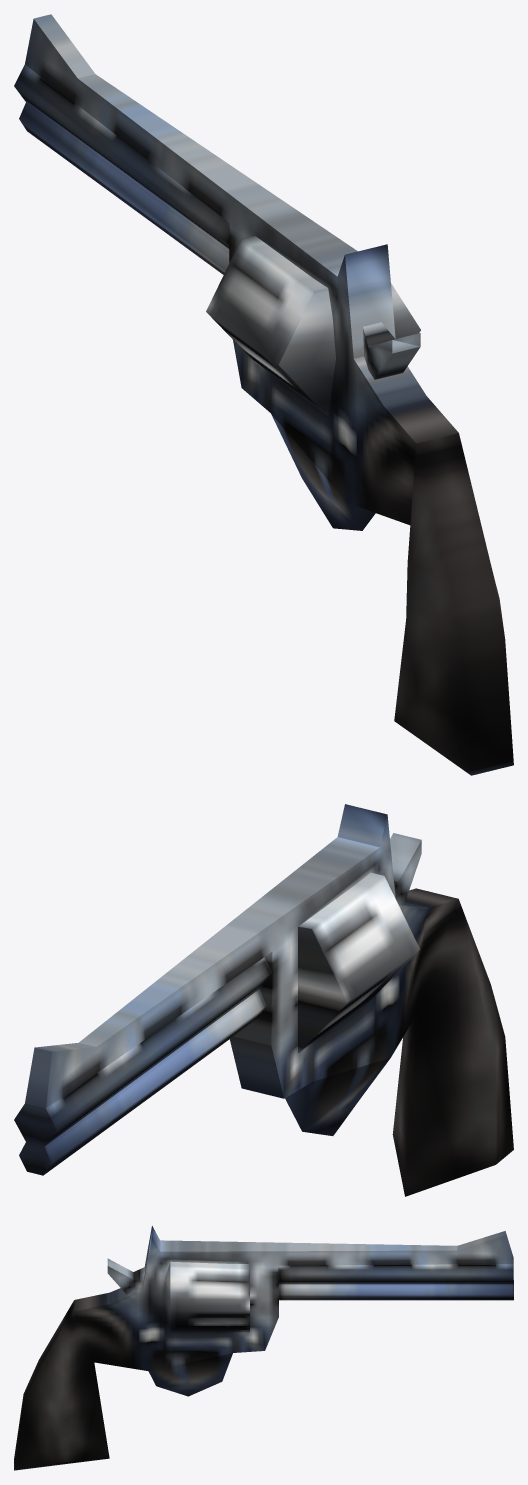
Rendered from revolver-pickup-lod0.glb.
The picture shows the model from 3 angles, top to bottom: view 1: azimuth 30°, elevation 25°; view 2: azimuth 150°, elevation 25°; view 3: azimuth 270°, elevation 25°; orthographic projection. The views are drawn at different scales.
Parts seen in each view (by area): view 1: w_python; view 2: w_python; view 3: w_python.
Part boxes in pixels (x1=…): w_python: x1=14, y1=14, x2=513, y2=775; w_python: x1=14, y1=804, x2=513, y2=1196; w_python: x1=14, y1=1226, x2=513, y2=1470.
Size of the model in its own units: 0.2849 by 0.8181 by 1.58.
Materials: 1 (1 with a texture image).
